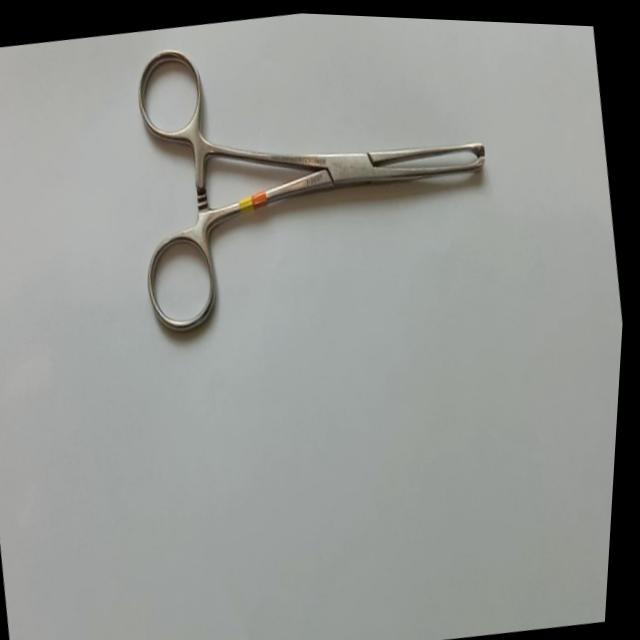AllisForcep: (107, 4, 516, 352)
